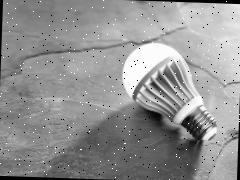lightbulb: (120, 41, 220, 142)
